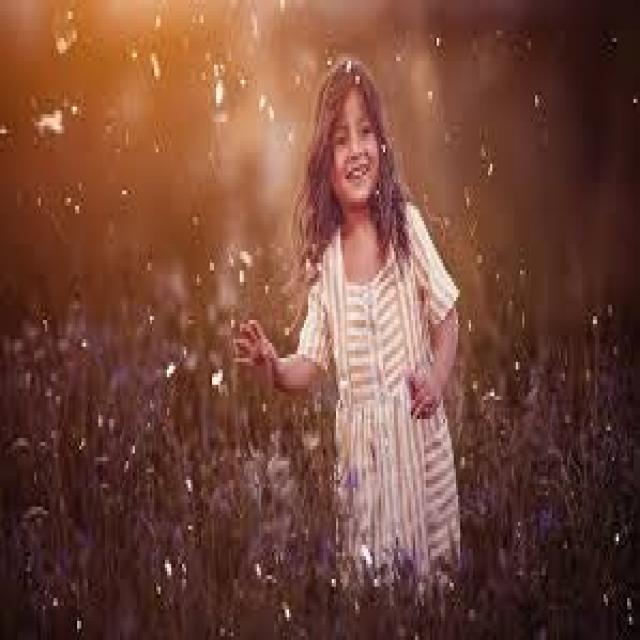Edited images: (232, 51, 480, 596)
